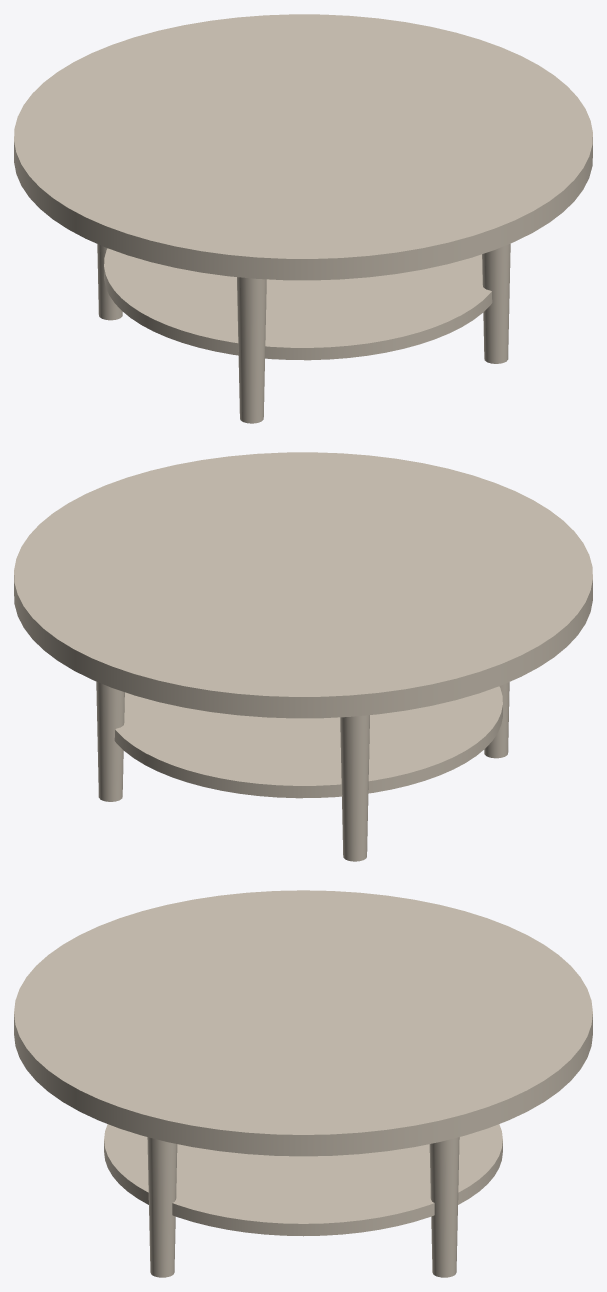
Rendered from coffee.glb.
3 renders of one model, top to bottom at view 1: azimuth 30°, elevation 25°; view 2: azimuth 150°, elevation 25°; view 3: azimuth 270°, elevation 25°, orthographic.
Size of the model in its own units: 1.1 by 0.42 by 1.1.
